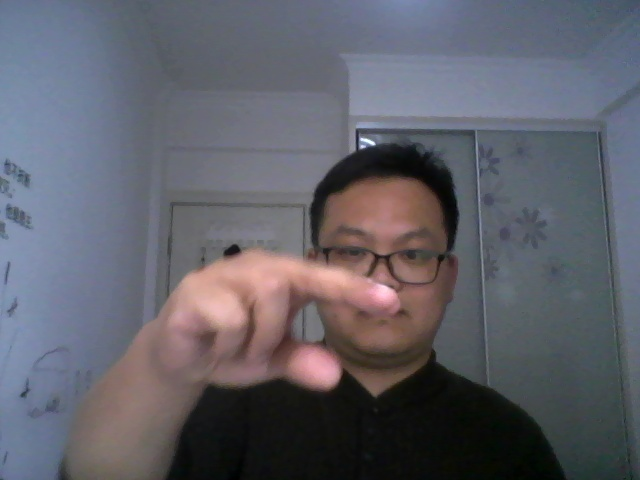No: (138, 247, 408, 407)
